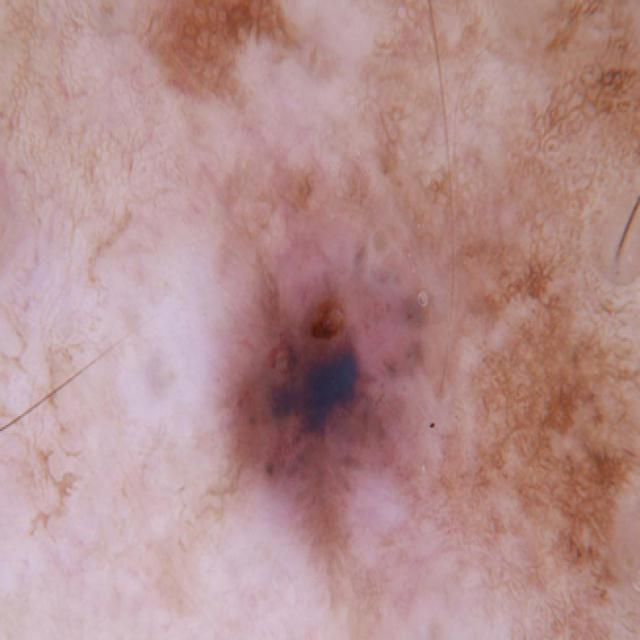Keratosis: (187, 176, 448, 570)
